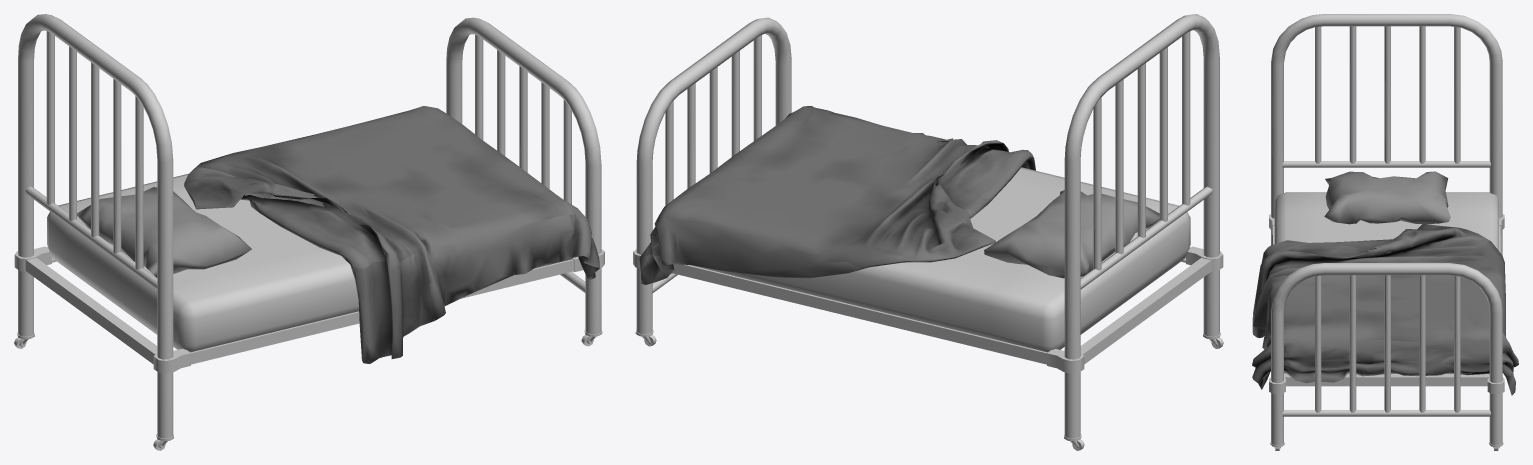
3 views of the same model, side by side, from view 1: azimuth 30°, elevation 25°; view 2: azimuth 150°, elevation 25°; view 3: azimuth 270°, elevation 25° (orthographic). The views are drawn at different scales.
Parts seen in each view (by area): view 1: low_Pillow_1; view 2: low_Pillow_1; view 3: low_Pillow_1.
Part boxes in pixels (left/top/right/bottom): low_Pillow_1: left=14, top=14, right=604, bottom=450; low_Pillow_1: left=633, top=14, right=1223, bottom=450; low_Pillow_1: left=1252, top=14, right=1518, bottom=450.
Size of the model in its own units: 187 by 139 by 123.
